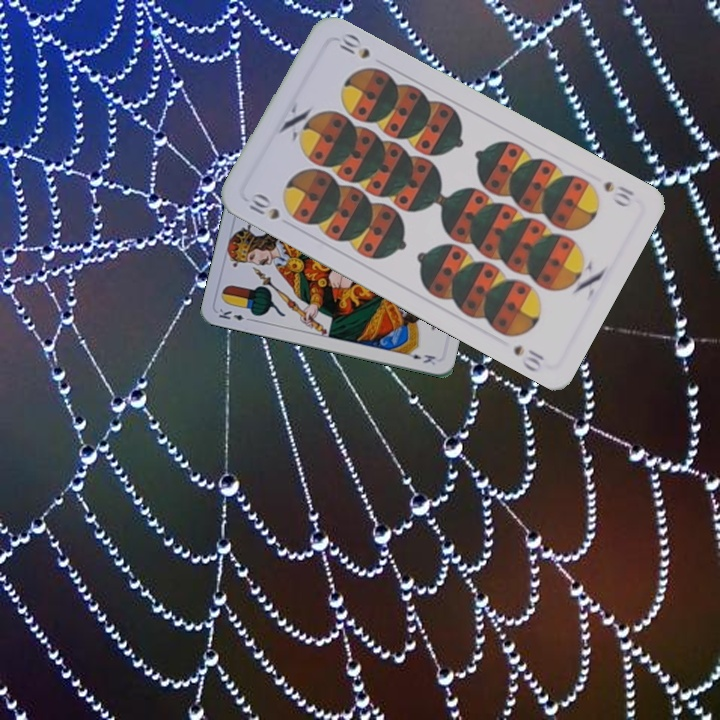EK: (214, 304, 255, 323)
S10: (242, 189, 283, 223), (599, 177, 637, 210)
